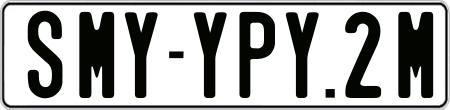2: (343, 10, 383, 96)
M: (78, 11, 114, 103), (395, 10, 429, 98)
P: (238, 11, 275, 100)
S: (25, 9, 60, 98)
Y: (122, 12, 161, 103), (284, 9, 320, 99), (191, 11, 224, 101)
